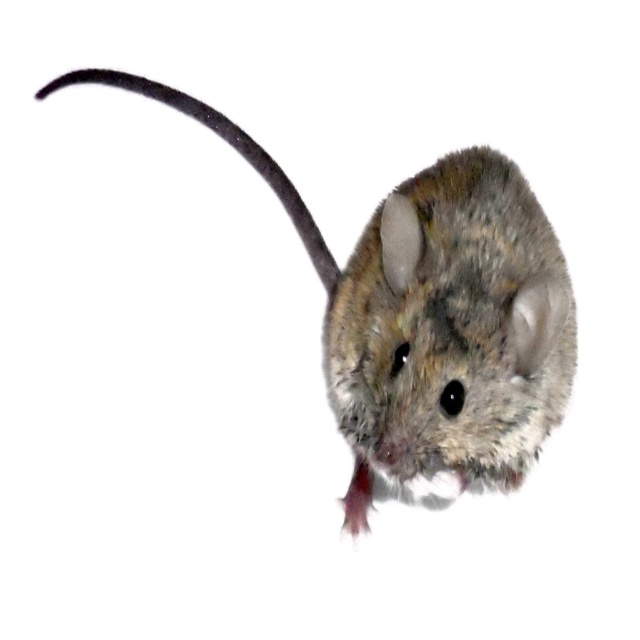Mouse: (32, 67, 577, 356)
